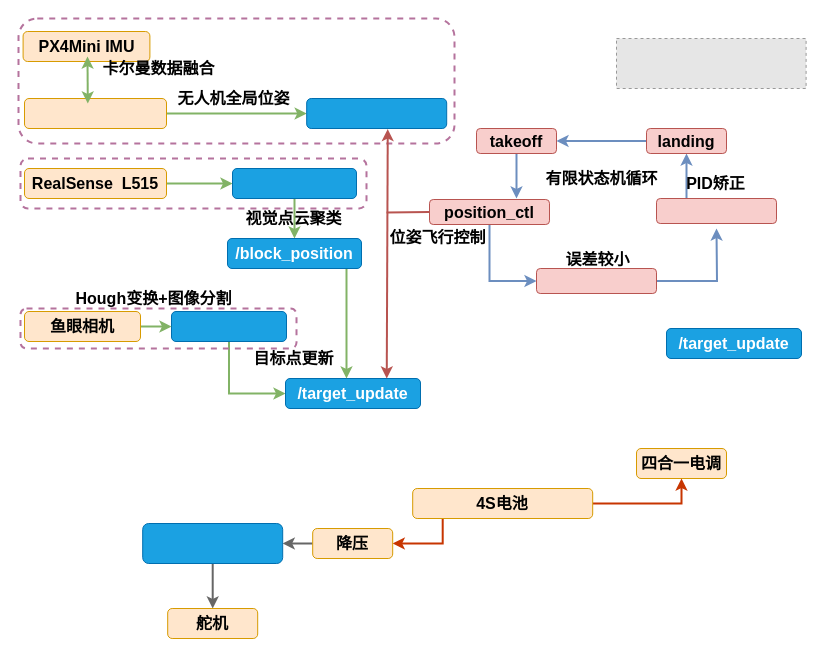
Some shapes in this 824 by 656 pixel diagram are drawn without their labels. Grey dashed boxes stand in for pictures. Each missing label, with the box of its shape:
/detect_img: (170, 310, 286, 342)
/image_raw: (232, 168, 356, 198)
/local_position: (306, 98, 447, 128)
docking: (656, 198, 776, 224)
Raspberry Pi: (142, 522, 283, 564)
RealSense t265: (24, 98, 166, 128)
velocity_ctl: (536, 268, 656, 294)
